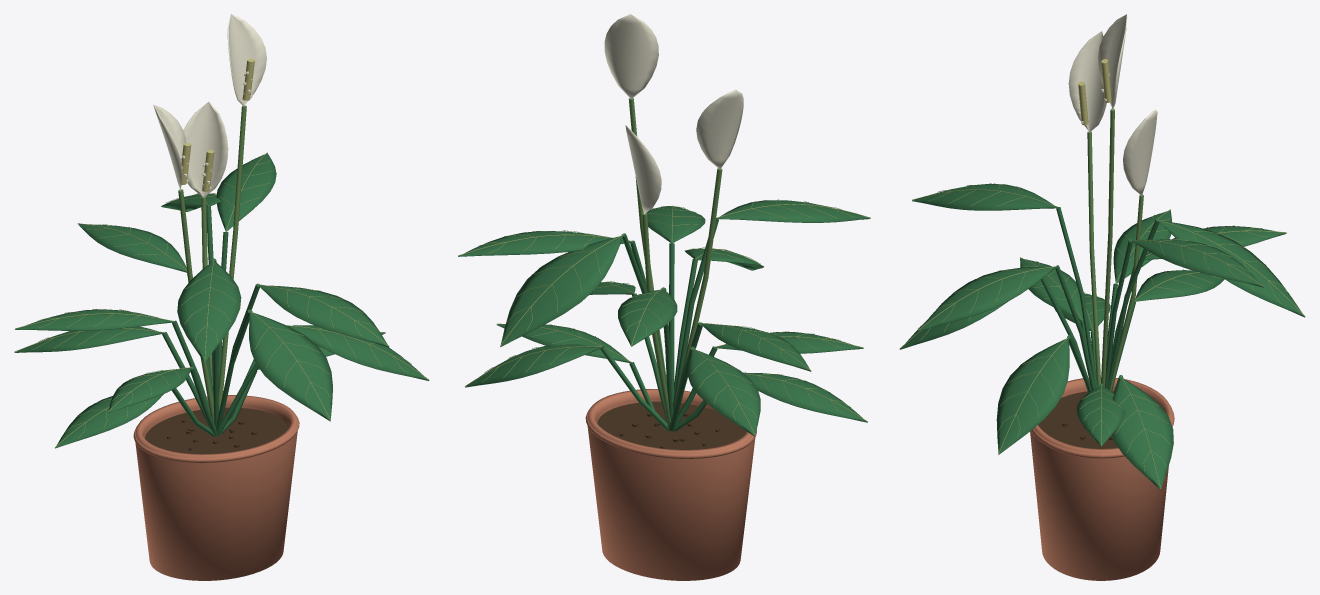
File: potted-peace-lily.glb
3 renders of one model, left to right at view 1: azimuth 30°, elevation 25°; view 2: azimuth 150°, elevation 25°; view 3: azimuth 270°, elevation 25°, orthographic. The views are drawn at different scales.
Visible parts, largest first — view 1: catalog_surface_RealismUV; view 2: catalog_surface_RealismUV; view 3: catalog_surface_RealismUV.
Boxes of the visible parts, <box> form: catalog_surface_RealismUV: <box>14,14,429,580</box>; catalog_surface_RealismUV: <box>458,14,870,580</box>; catalog_surface_RealismUV: <box>899,14,1305,580</box>.
Size of the model in its own units: 0.62 by 0.9 by 0.6.
